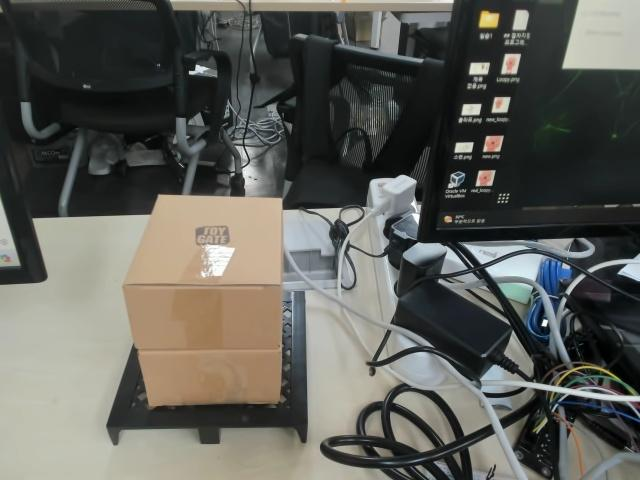box: (102, 192, 309, 447)
